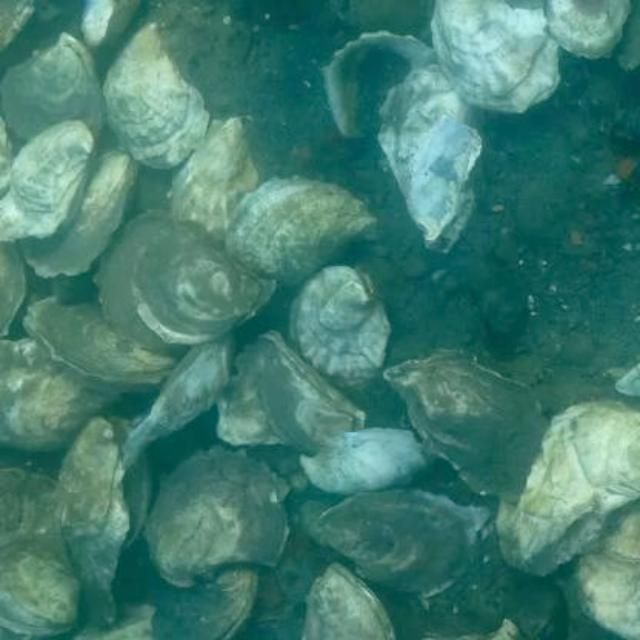Oyster-Closed: (94, 211, 276, 351), (499, 399, 640, 573), (386, 355, 548, 502), (379, 63, 484, 250), (148, 447, 288, 585), (217, 332, 365, 452), (321, 489, 486, 596), (122, 326, 237, 470), (226, 177, 379, 285), (102, 21, 210, 169), (20, 144, 138, 277), (432, 0, 561, 113), (62, 418, 130, 627), (26, 295, 178, 385), (0, 339, 122, 451), (0, 468, 81, 636), (290, 266, 391, 387), (0, 120, 95, 242), (171, 118, 259, 244), (2, 36, 107, 139), (302, 428, 434, 494), (578, 499, 640, 639), (153, 564, 258, 640), (303, 563, 395, 640), (545, 0, 632, 55), (597, 502, 640, 561), (1, 241, 26, 338), (0, 0, 37, 50)
